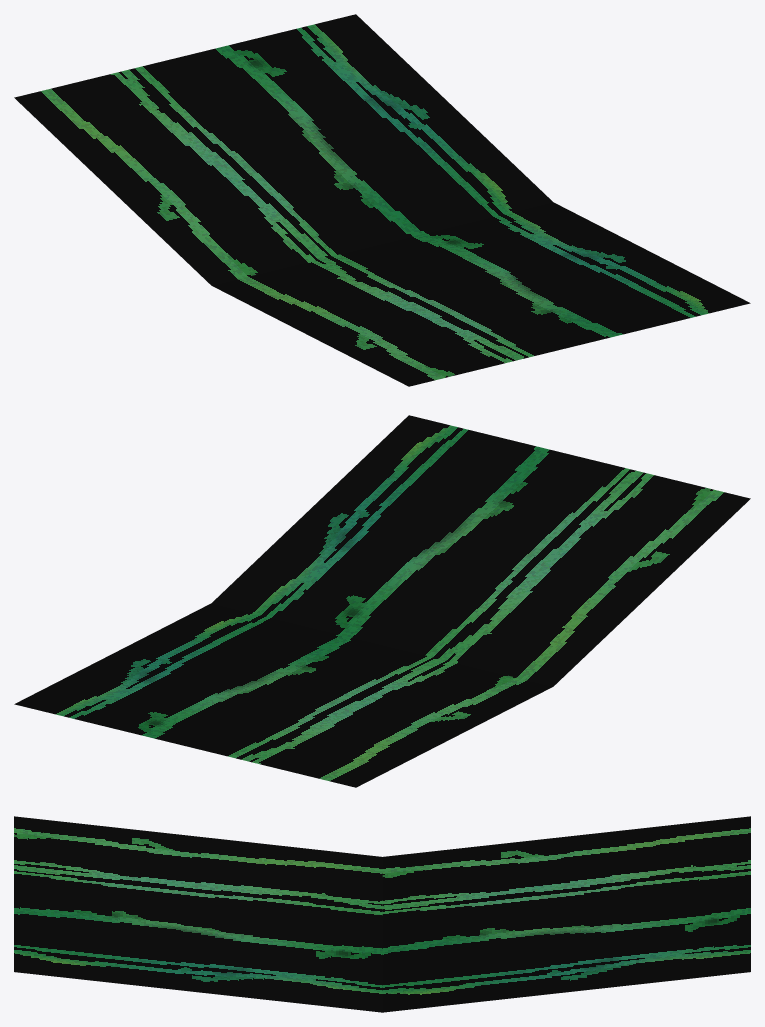
Rendered from bent_vines_1_thick.glb.
The picture shows the model from 3 angles, top to bottom: view 1: azimuth 30°, elevation 25°; view 2: azimuth 150°, elevation 25°; view 3: azimuth 270°, elevation 25°; orthographic projection. The views are drawn at different scales.
Parts seen in each view (by area): view 1: Bent Vines 1 Thick; view 2: Bent Vines 1 Thick; view 3: Bent Vines 1 Thick.
Boxes of the visible parts, bbox=[...] form: Bent Vines 1 Thick: bbox=[14, 14, 750, 386]; Bent Vines 1 Thick: bbox=[14, 415, 750, 787]; Bent Vines 1 Thick: bbox=[14, 816, 750, 1012].
Bounding box in the file's own units: 2 × 0.2429 × 4.
1 material, 1 textured.
